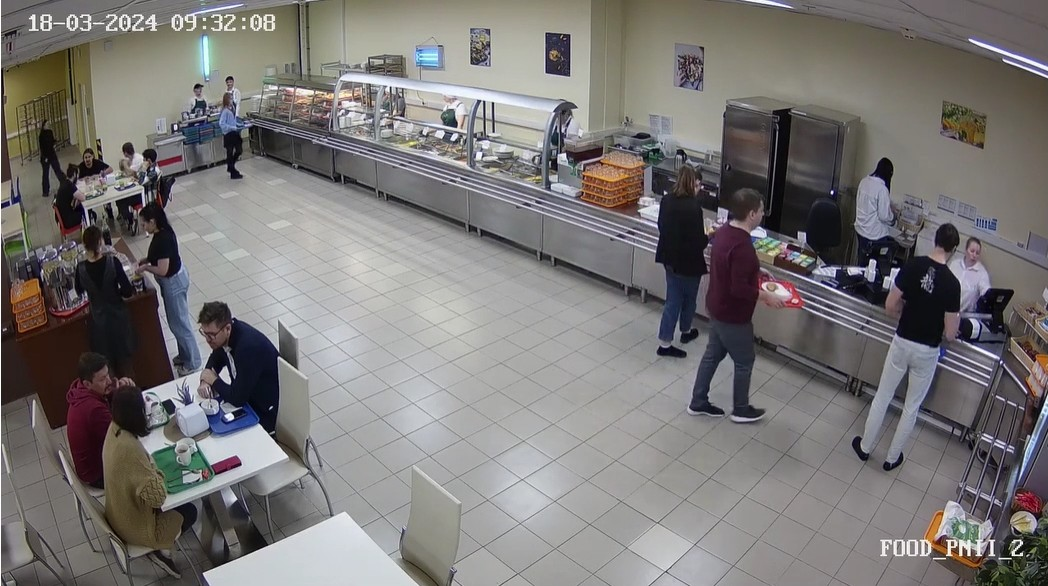Ne_v_Ocheredi: (114, 201, 254, 365), (75, 221, 137, 361), (33, 113, 66, 195)
Personal: (787, 214, 979, 474), (857, 146, 900, 271), (536, 92, 587, 162), (961, 228, 992, 315), (434, 86, 471, 142), (178, 82, 216, 126), (221, 72, 239, 93)
Vybiraet: (675, 172, 778, 434), (652, 160, 707, 361), (216, 92, 247, 183)
Za_Stolom: (188, 296, 292, 430), (97, 378, 177, 551), (52, 349, 125, 495), (137, 146, 169, 198), (70, 146, 115, 178), (53, 166, 82, 215), (114, 135, 141, 175)
